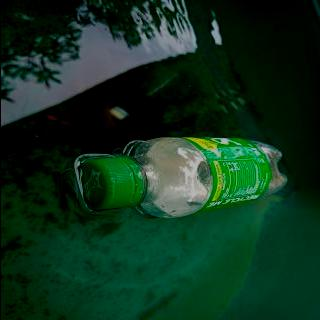bottle: (78, 137, 287, 218)
